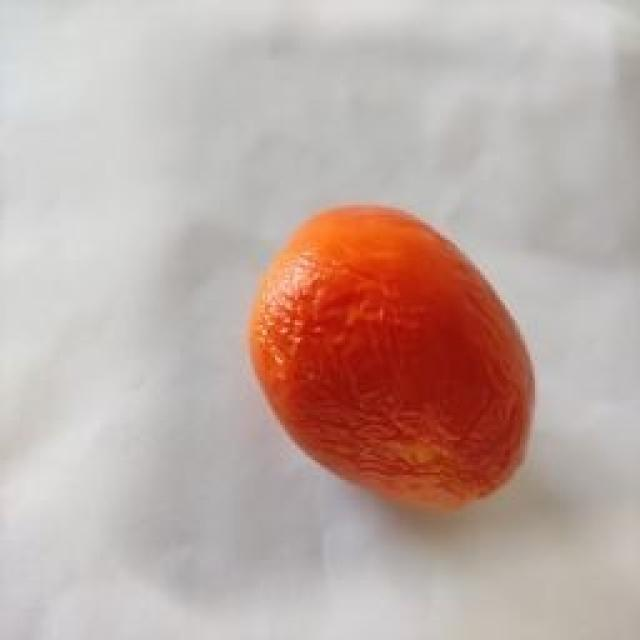overripe: (243, 198, 543, 513)
